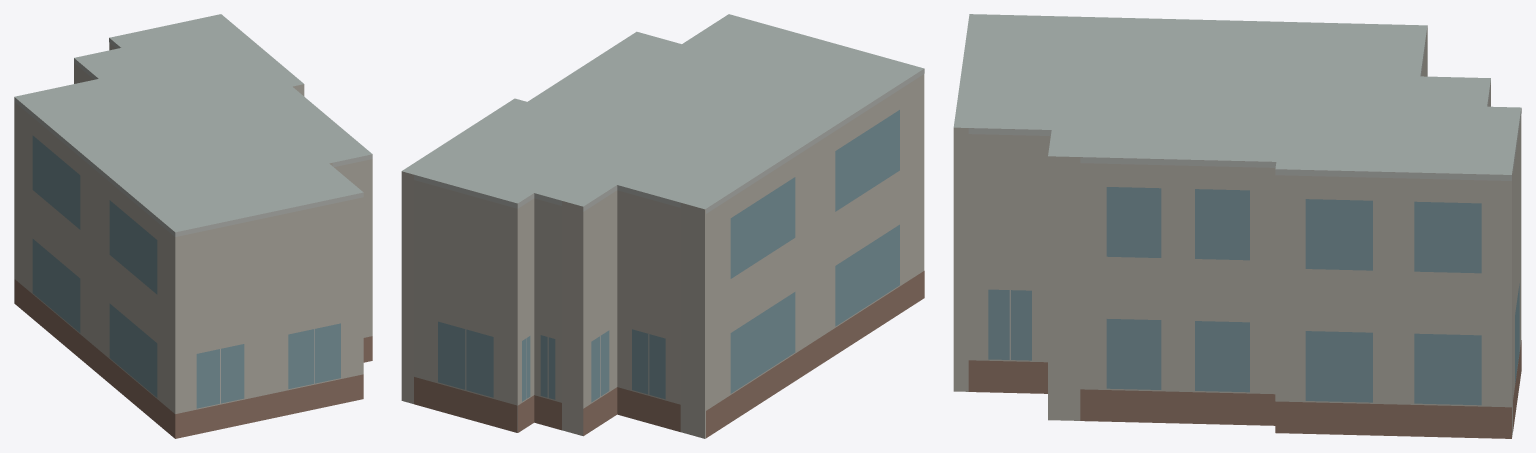
File: survey-upis-32471621.glb
The picture shows the model from 3 angles, left to right: view 1: azimuth 30°, elevation 25°; view 2: azimuth 150°, elevation 25°; view 3: azimuth 270°, elevation 25°; orthographic projection. The views are drawn at different scales.
Parts seen in each view (by area): view 1: survey-upis-32471621.tmp; view 2: survey-upis-32471621.tmp; view 3: survey-upis-32471621.tmp.
Part boxes in pixels (left/top/right/bottom): survey-upis-32471621.tmp: left=14, top=14, right=372, bottom=438; survey-upis-32471621.tmp: left=401, top=14, right=924, bottom=438; survey-upis-32471621.tmp: left=953, top=14, right=1521, bottom=438.
Bounding box in the file's own units: 13.85 × 10.58 × 20.64.
